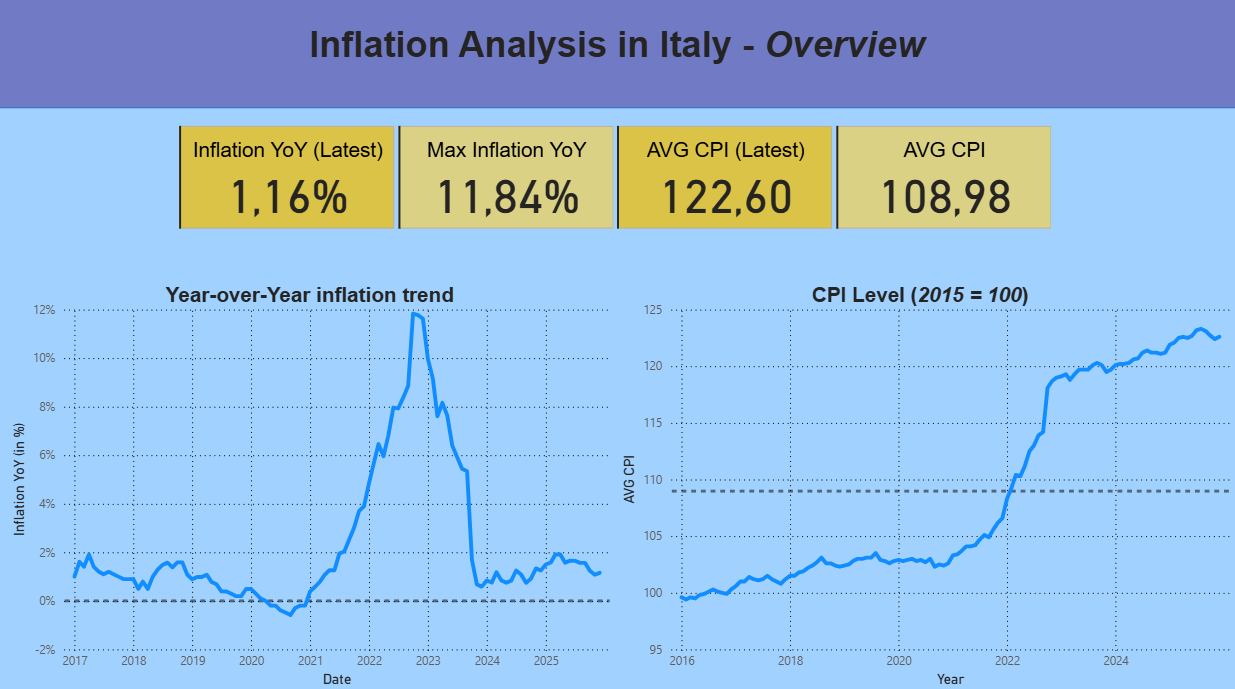

What the dashboard file says about the page in this screenshot:
{"tool":"powerbi","page":{"name":"Overview","canvas":[1280,720],"ordinal":0},"visuals":[{"type":"shape","box":[0,0,1280,720],"z":0},{"type":"shape","box":[0,0,1280,117.1],"z":1000},{"type":"textbox","box":[0,24.3,1280,67.1],"z":2000},{"type":"cardVisual","fields":{"Data":["TableMeasures.Inflation_YoY_Latest","TableMeasures.Max_Inflation_YoY","TableMeasures.AVG_CPI_Latest","TableMeasures.AVG_CPI"]},"box":[183.2,130.3,913.5,116.1],"z":3000},{"type":"lineChart","fields":{"Category":["Dim_Date.Date.Variation.Date Hierarchy.Year","Dim_Date.Date.Variation.Date Hierarchy.Month"],"Y":["TableMeasures.AVG_CPI"]},"box":[640,311.4,640,408.6],"z":4000},{"type":"lineChart","fields":{"Category":["Dim_Date.Date.Variation.Date Hierarchy.Year"],"Y":["NIC.Inflation_YoY"]},"box":[10,311.4,630,408.6],"z":5000},{"type":"textbox","box":[168.6,292.9,312.9,37.1],"z":6000},{"type":"textbox","box":[836.1,292.9,247.7,37.4],"z":7000}]}

Visuals, with their boxes in screenshot pixels (x1, y1, x2, y2), scaled from the page's 1280x720 canvas onto the 1235x689 screenshot:
shape: 0:0:1234:688
shape: 0:0:1234:112
textbox: 0:23:1234:87
cardVisual - TableMeasures.Inflation_YoY_Latest x TableMeasures.Max_Inflation_YoY: 177:125:1058:236
lineChart - Dim_Date.Date.Variation.Date Hierarchy.Year x Dim_Date.Date.Variation.Date Hierarchy.Month: 618:298:1234:688
lineChart - Dim_Date.Date.Variation.Date Hierarchy.Year x NIC.Inflation_YoY: 10:298:618:688
textbox: 163:280:465:316
textbox: 807:280:1046:316
